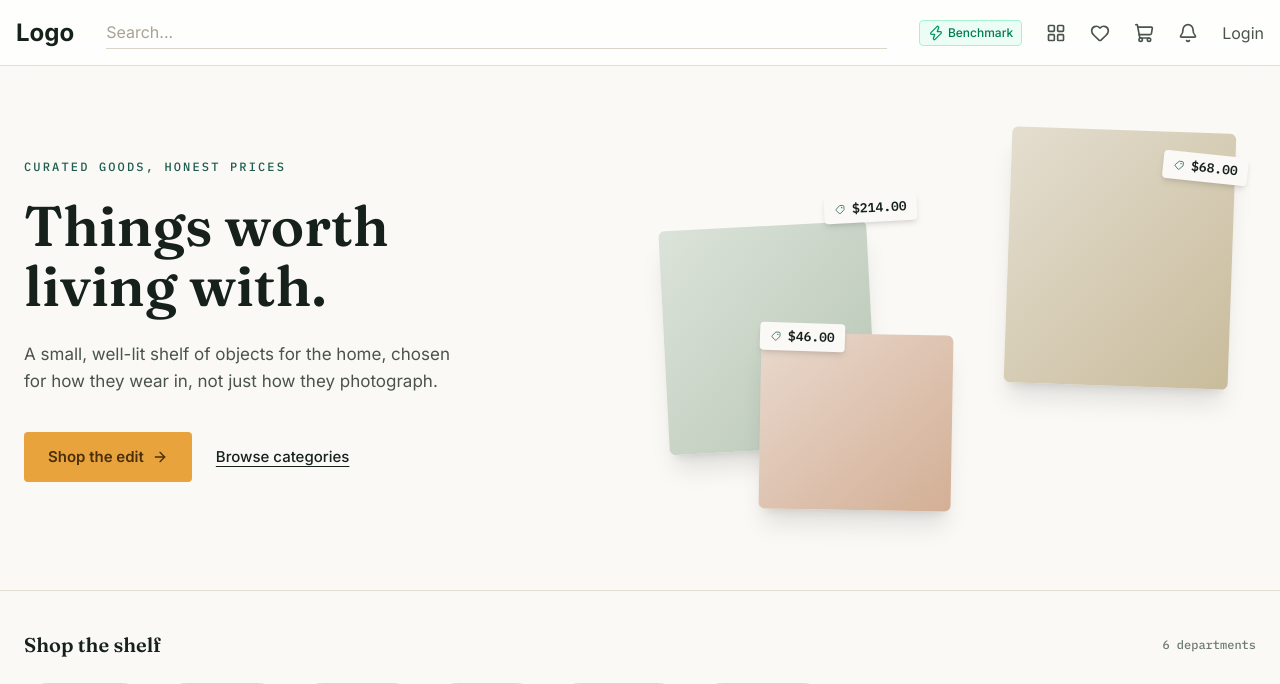
Test: Landing Page (Cypress System Test) › navigates from landing page to login page
Click the link "Login" at (1243, 33), box [1222,21,1264,45]
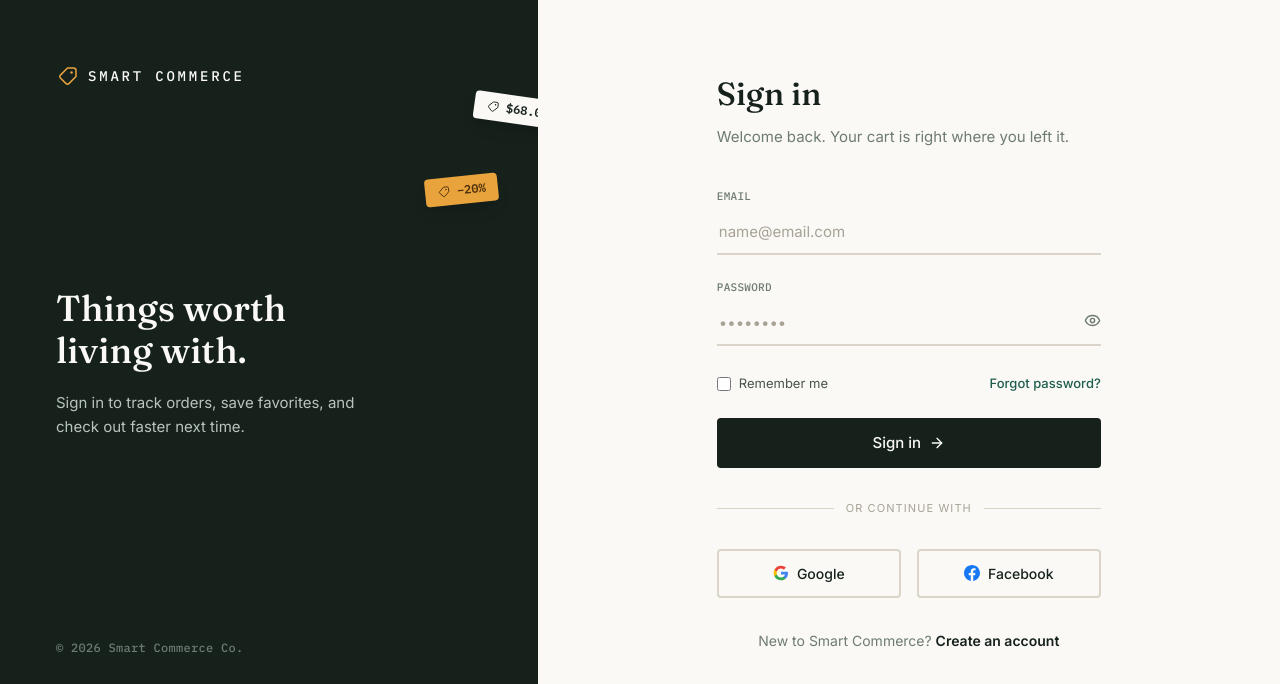
Check: the heading "Sign in" is shown, box [717,74,821,112]
